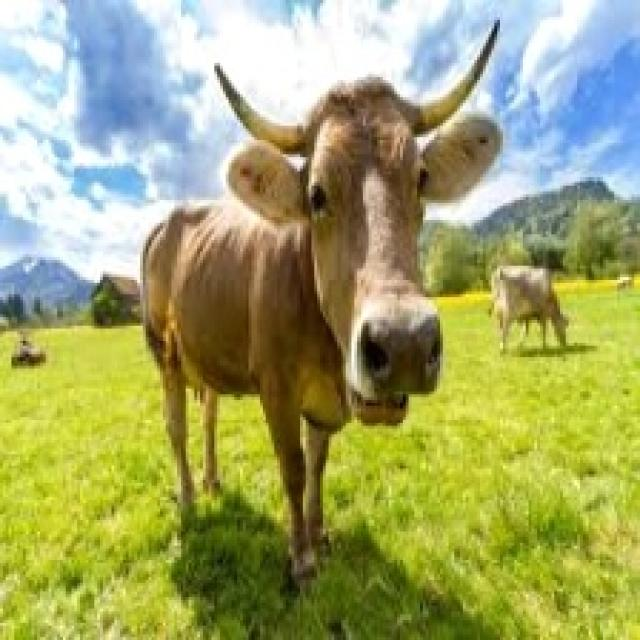bear: (106, 51, 584, 570)
